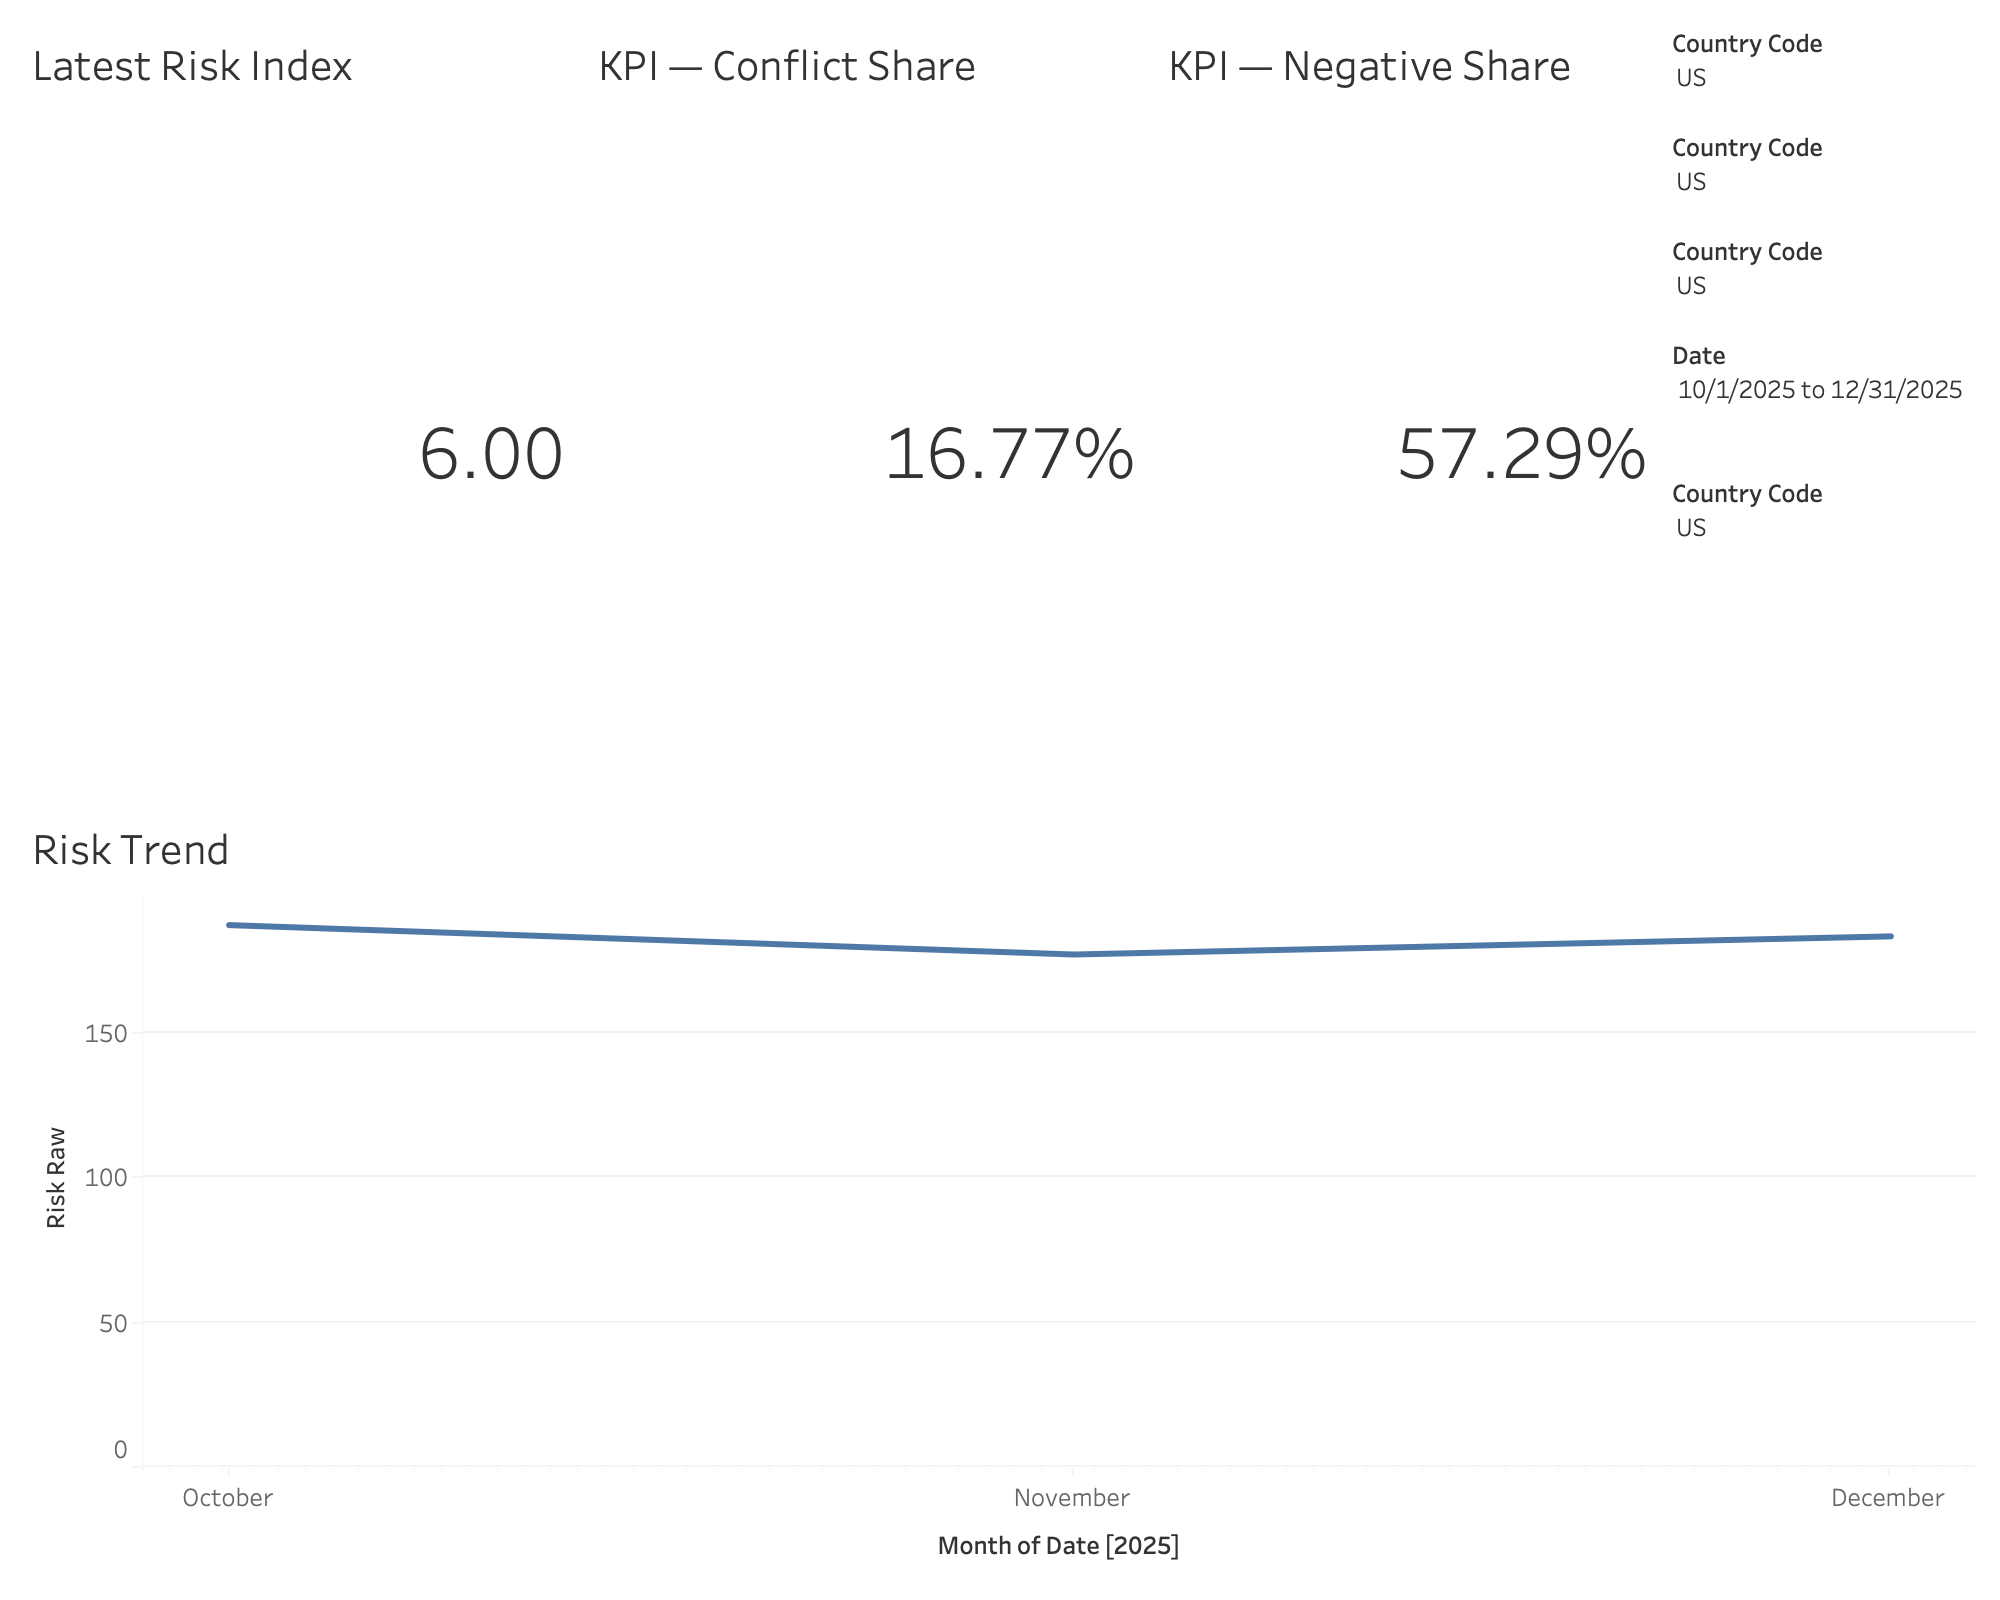

This screenshot's page, from the dashboard's own definition file:
{"tool":"tableau","page":{"name":"Risk Monitor","canvas":[1000,800],"ordinal":1},"visuals":[{"type":"worksheet","title":"Latest Risk Index","mark":"Text","box":[8,8,283,392]},{"type":"worksheet","title":"KPI — Conflict Share","mark":"Text","box":[291,8,285,392]},{"type":"worksheet","title":"KPI — Negative Share","mark":"Text","box":[576,8,256,392]},{"type":"filter","title":"Latest Risk Index","param":"[federated.00j5tc7106af3h1167a9c0zdy5o5].[none:CountryCode:nk]","box":[832,8,160,52]},{"type":"filter","title":"KPI — Conflict Share","param":"[federated.00j5tc7106af3h1167a9c0zdy5o5].[none:CountryCode:nk]","box":[832,60,160,52]},{"type":"filter","title":"KPI — Negative Share","param":"[federated.00j5tc7106af3h1167a9c0zdy5o5].[none:CountryCode:nk]","box":[832,112,160,52]},{"type":"filter","title":"Risk Trend","param":"[federated.00j5tc7106af3h1167a9c0zdy5o5].[none:date:qk]","box":[832,164,160,69]},{"type":"filter","title":"Risk Trend","param":"[federated.00j5tc7106af3h1167a9c0zdy5o5].[none:CountryCode:nk]","box":[832,233,160,52]},{"type":"worksheet","title":"Risk Trend","mark":"Line","rows":["risk_raw"],"cols":["date"],"box":[8,400,984,392]}]}

Visuals, with their boxes in screenshot pixels (x1, y1, x2, y2), scaled from the page's 1000x800 canvas onto the 2000x1600 screenshot:
"Latest Risk Index" worksheet (Text marks): region(16, 16, 582, 800)
"KPI — Conflict Share" worksheet (Text marks): region(582, 16, 1152, 800)
"KPI — Negative Share" worksheet (Text marks): region(1152, 16, 1664, 800)
"Latest Risk Index" filter: region(1664, 16, 1984, 120)
"KPI — Conflict Share" filter: region(1664, 120, 1984, 224)
"KPI — Negative Share" filter: region(1664, 224, 1984, 328)
"Risk Trend" filter: region(1664, 328, 1984, 466)
"Risk Trend" filter: region(1664, 466, 1984, 570)
"Risk Trend" worksheet (Line marks): region(16, 800, 1984, 1584)
